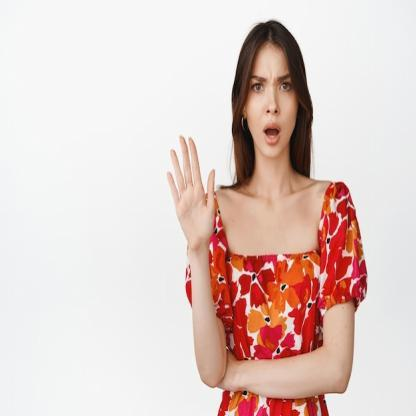stop: (166, 132, 218, 258)
